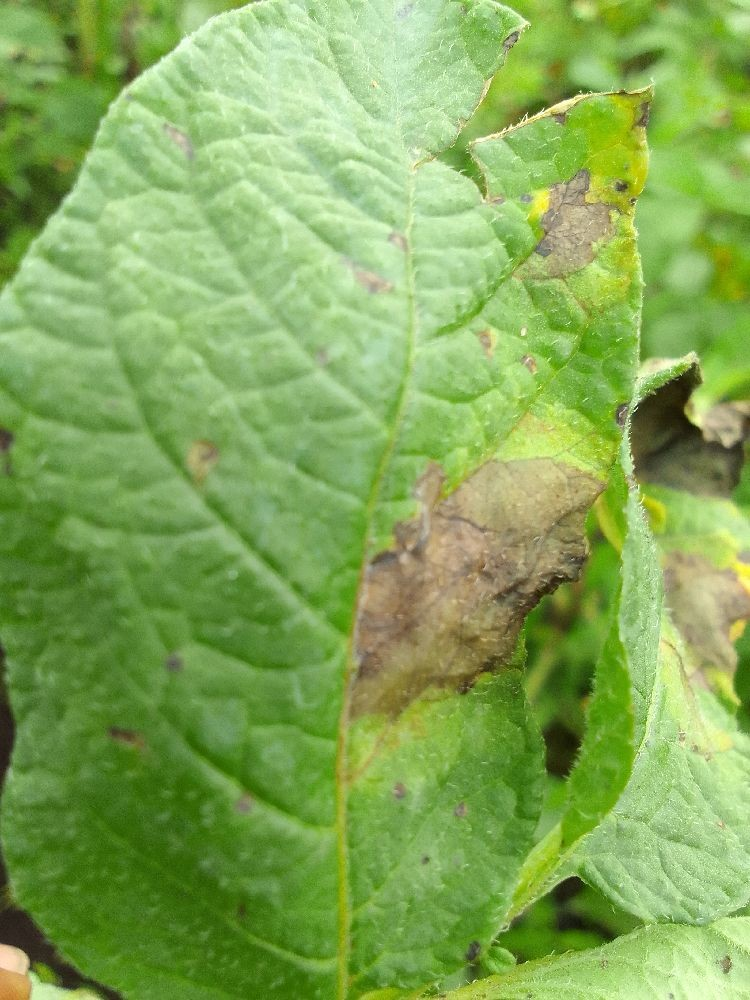late_blight: (326, 443, 623, 738), (600, 351, 750, 511), (650, 538, 750, 685), (533, 165, 623, 274)
